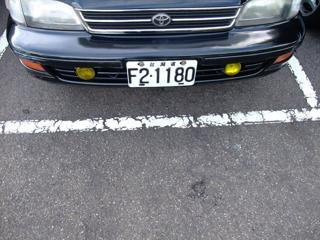plate: (125, 59, 197, 87)
